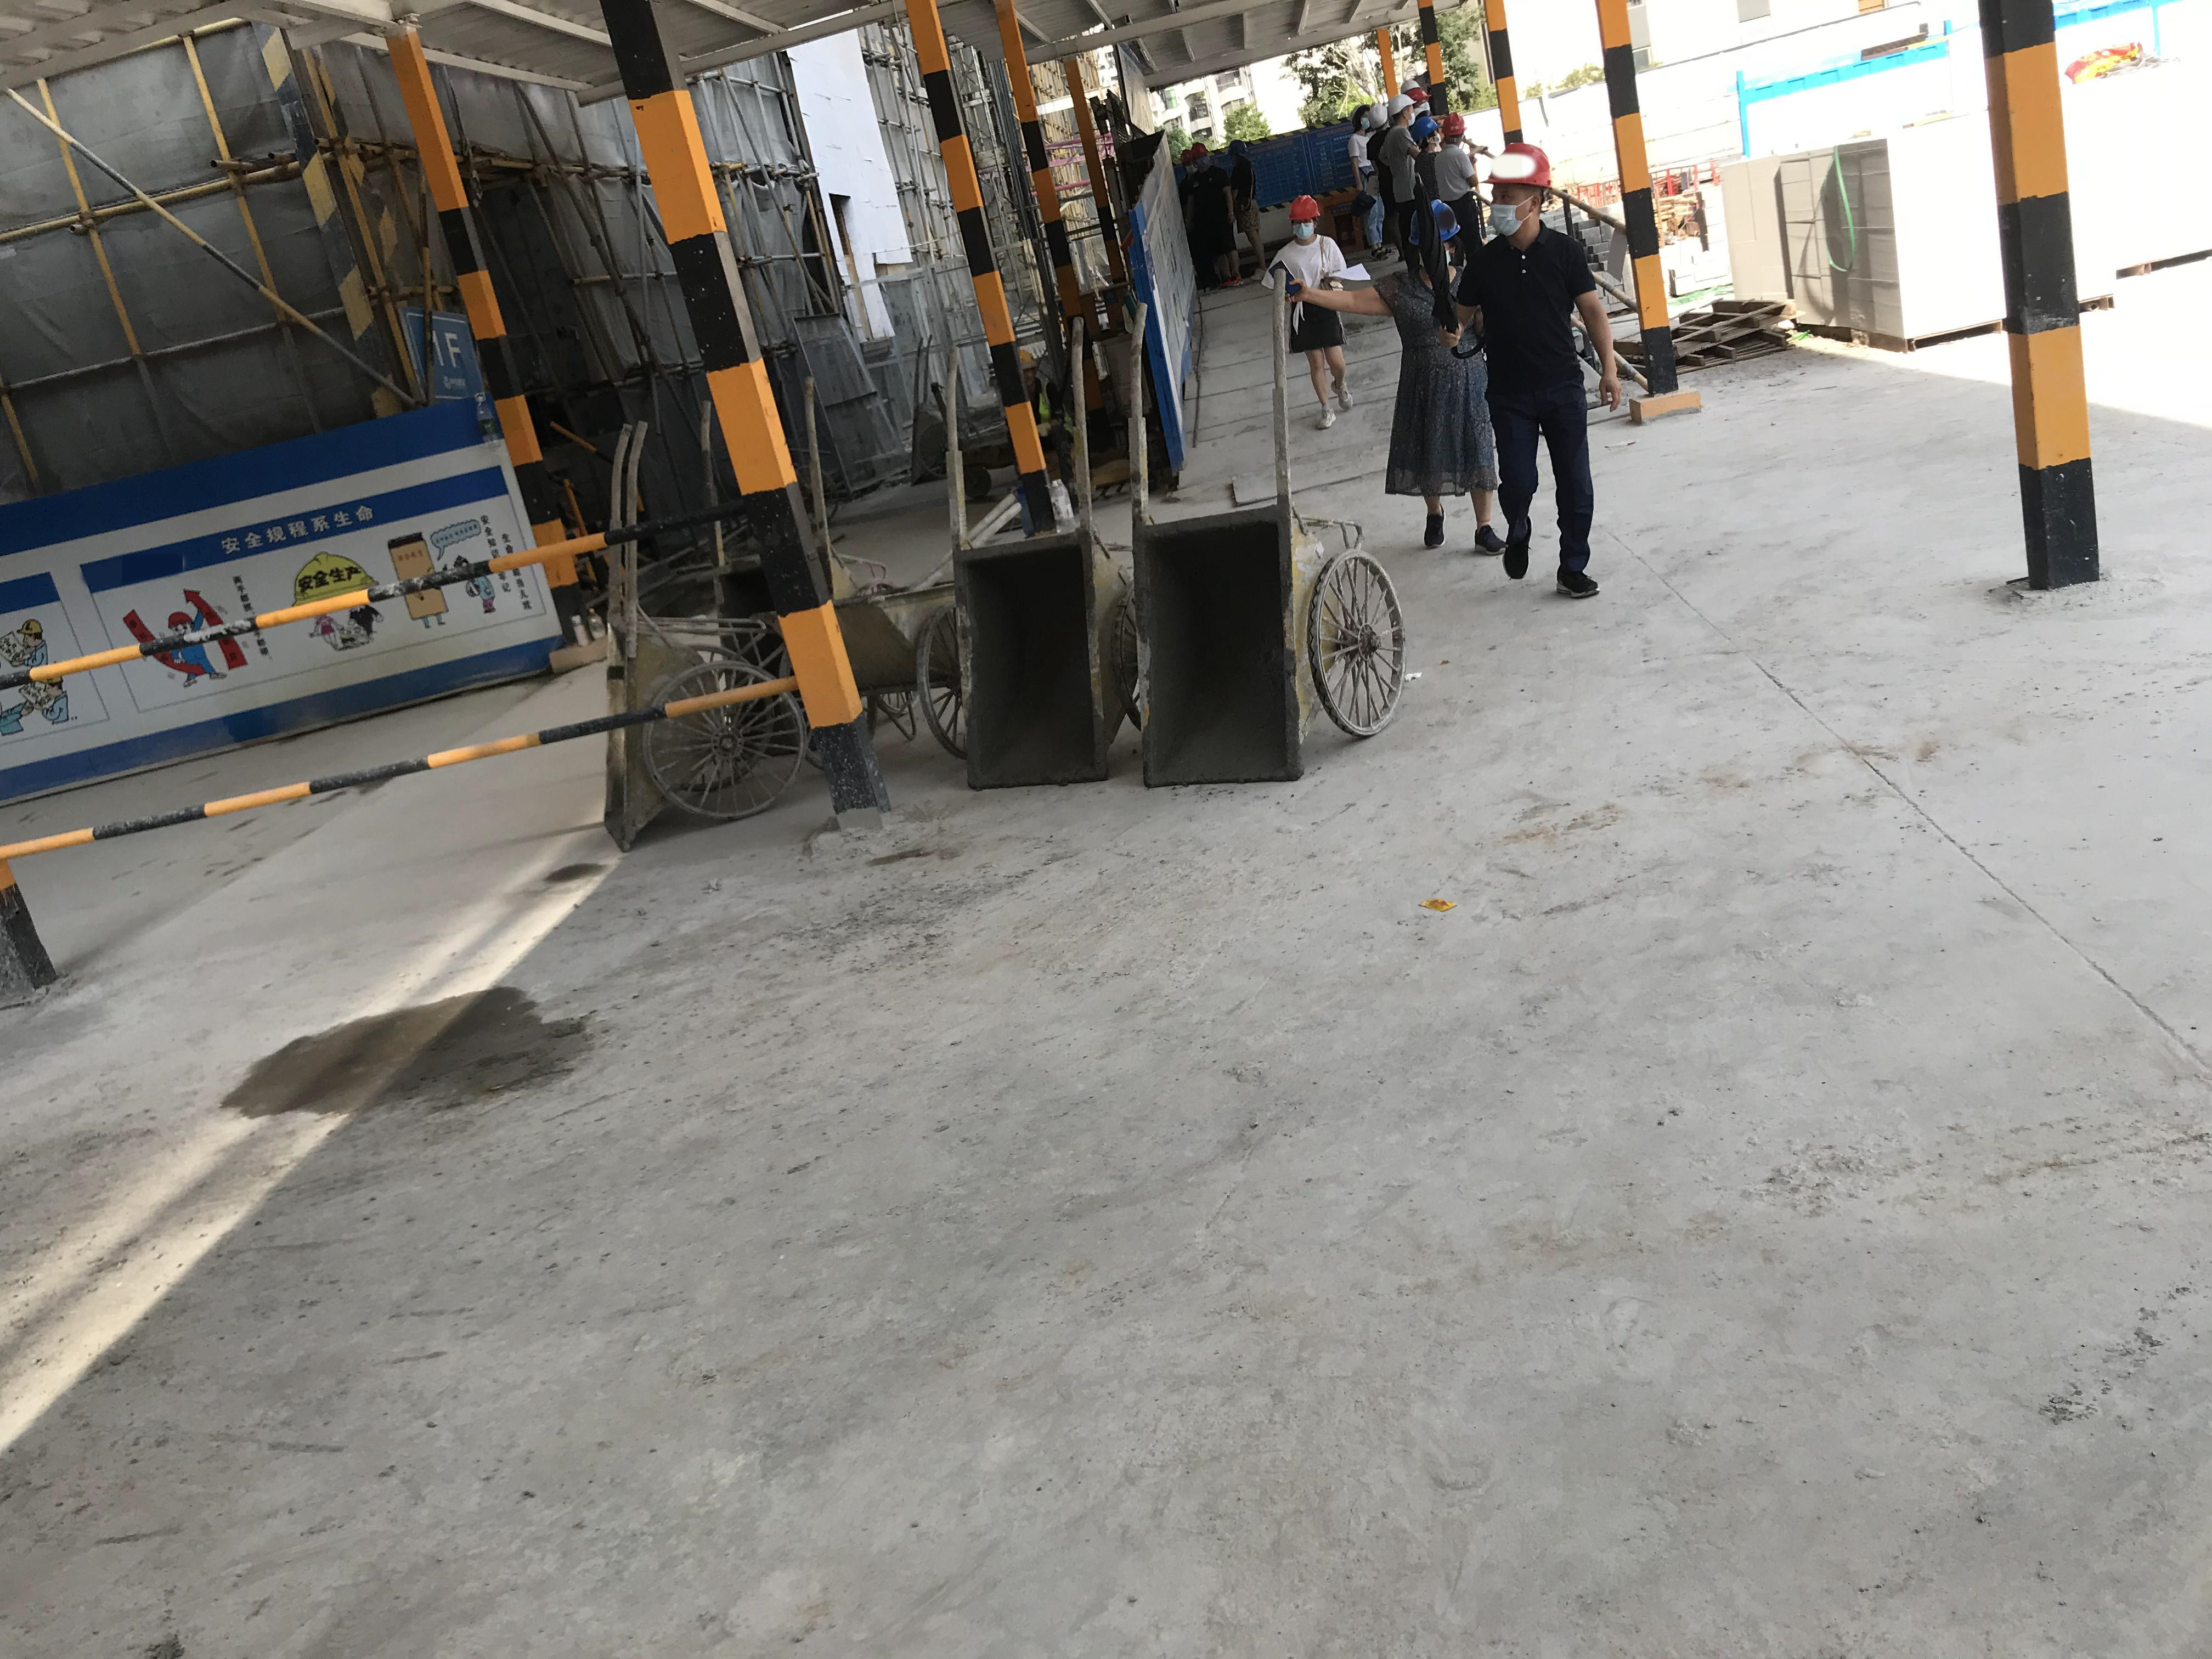helmet: (1480, 142, 1553, 189), (1410, 201, 1460, 245), (1290, 193, 1319, 221), (1412, 116, 1441, 140), (1388, 95, 1416, 116), (1442, 112, 1466, 136), (1367, 104, 1386, 127), (1401, 80, 1420, 93), (1408, 88, 1431, 100), (1192, 142, 1207, 155), (1231, 140, 1248, 151), (1181, 150, 1192, 160)
person: (1440, 139, 1624, 601), (1290, 202, 1505, 556), (1260, 190, 1361, 430), (1178, 149, 1248, 285), (1348, 101, 1396, 262), (1192, 142, 1245, 284), (1435, 111, 1483, 265), (1383, 94, 1424, 274), (1365, 103, 1409, 264), (1226, 138, 1269, 282), (1412, 115, 1441, 201)
